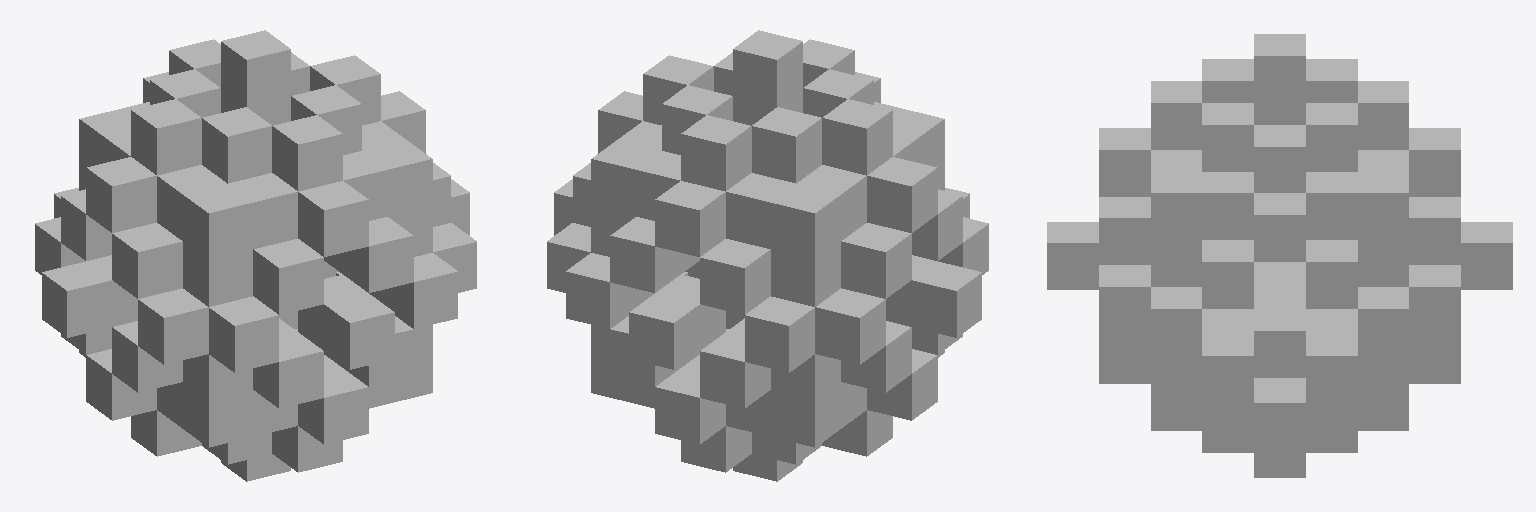
File: ProjectileDeath1.obj
The picture shows the model from 3 angles: view 1: azimuth 30°, elevation 25°; view 2: azimuth 150°, elevation 25°; view 3: azimuth 270°, elevation 25°; orthographic projection.
Size of the model in its own units: 9 by 9 by 9.